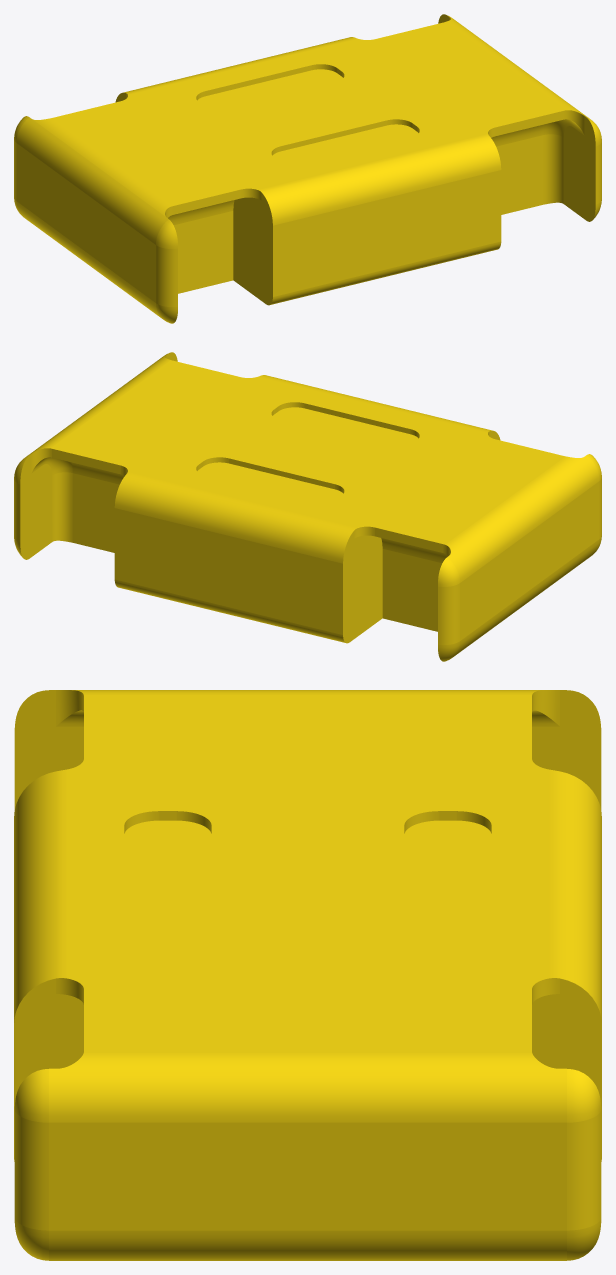
3 views of the same model, one above another, from view 1: azimuth 30°, elevation 25°; view 2: azimuth 150°, elevation 25°; view 3: azimuth 270°, elevation 25° (orthographic). The views are drawn at different scales.
Visible parts, largest first — view 1: ID2; view 2: ID2; view 3: ID2.
Part boxes in pixels (x1,y1,x2,y2): ID2: [14, 14, 601, 323]; ID2: [14, 352, 601, 661]; ID2: [14, 690, 601, 1260].
Bounding box in the file's own units: 0.272 × 0.168 × 0.064.
